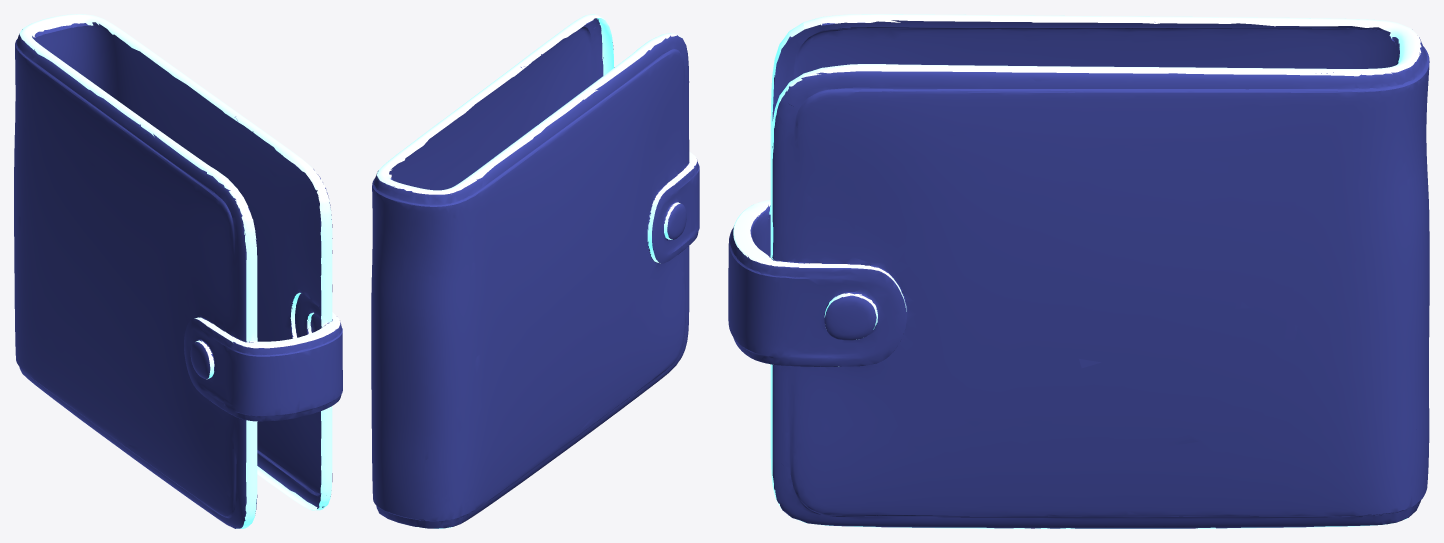
File: wallet.glb
The picture shows the model from 3 angles, left to right: view 1: azimuth 30°, elevation 25°; view 2: azimuth 150°, elevation 25°; view 3: azimuth 270°, elevation 25°; orthographic projection. The views are drawn at different scales.
Visible parts, largest first — view 1: model; view 2: model; view 3: model.
Part boxes in pixels (left/top/right/bottom): model: left=14, top=14, right=342, bottom=528; model: left=371, top=14, right=699, bottom=528; model: left=728, top=14, right=1429, bottom=528.
Size of the model in its own units: 0.5212 by 1.38 by 1.9.
